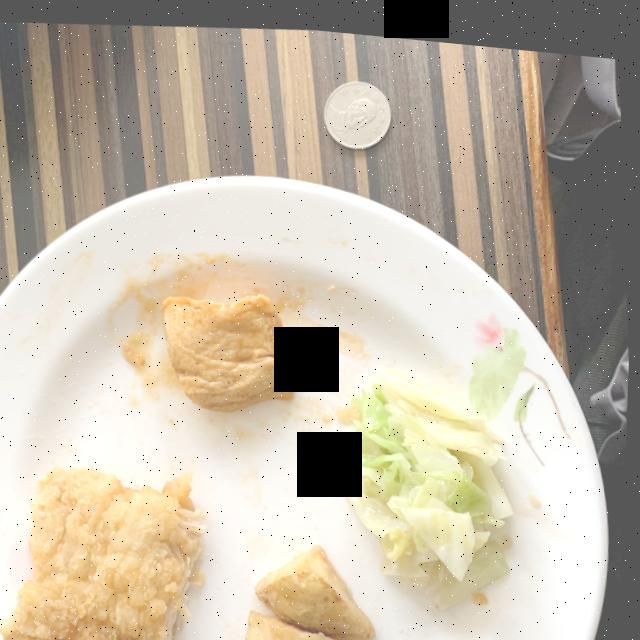cabbage: (343, 362, 516, 599)
coin: (324, 74, 391, 140)
creamy tofu: (164, 288, 299, 406)
fried chicken cutlet: (3, 464, 210, 640)
fried potato: (248, 538, 379, 640)
